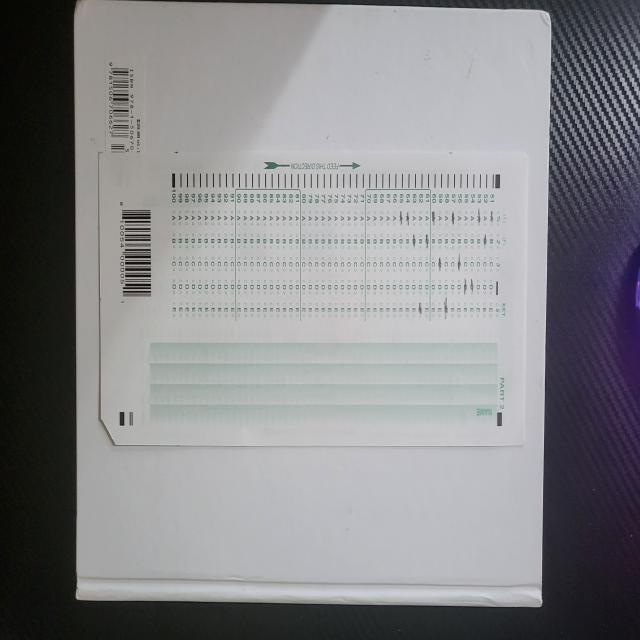scantron_back: (100, 151, 529, 446)
